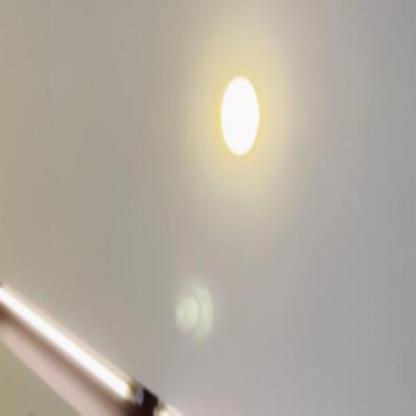light_on: (0, 277, 140, 416), (204, 62, 272, 160), (148, 392, 184, 414)
